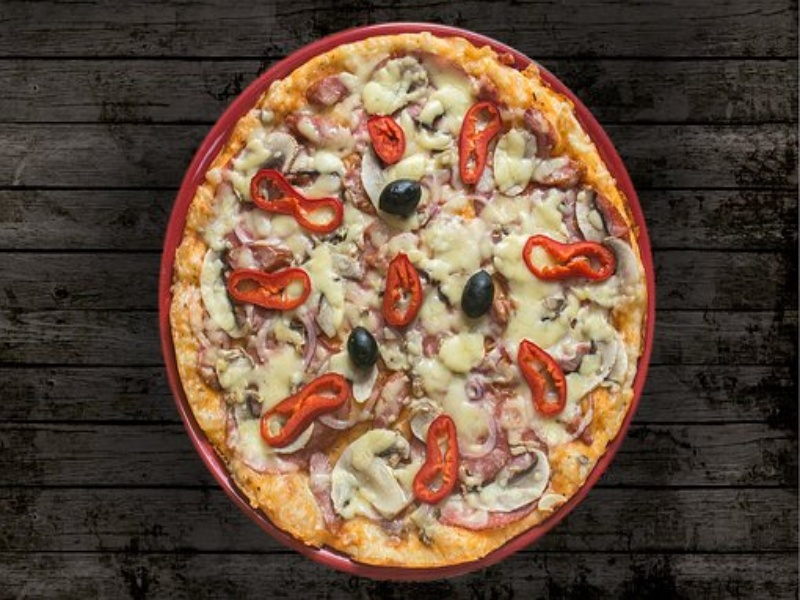olive noir: (335, 320, 390, 374), (375, 180, 439, 218), (461, 266, 497, 318)
